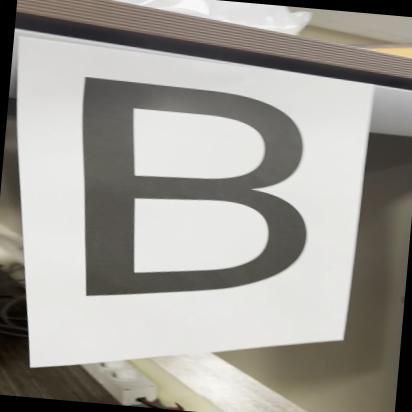seat: (39, 64, 334, 321)
